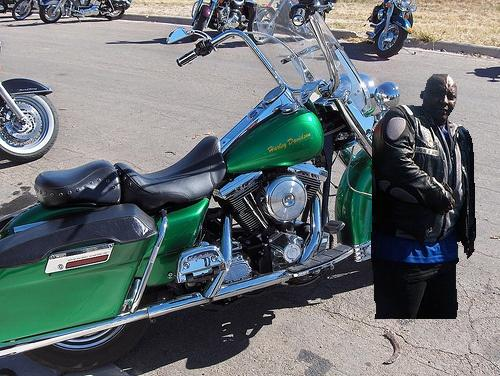tampered: (372, 75, 476, 319)
